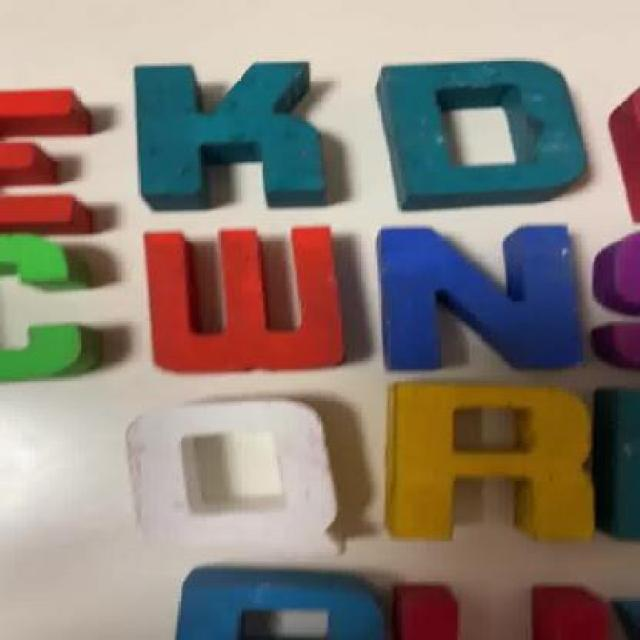D: (378, 60, 588, 206)
K: (140, 64, 326, 210)
N: (373, 227, 572, 368)
Q: (132, 397, 348, 560)
R: (395, 380, 600, 534)
W: (138, 228, 350, 368)
